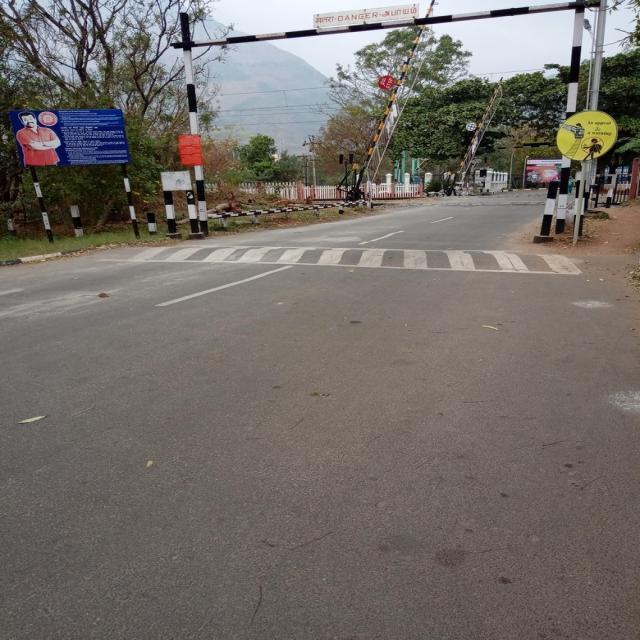speedbreaker: (87, 240, 580, 276)
